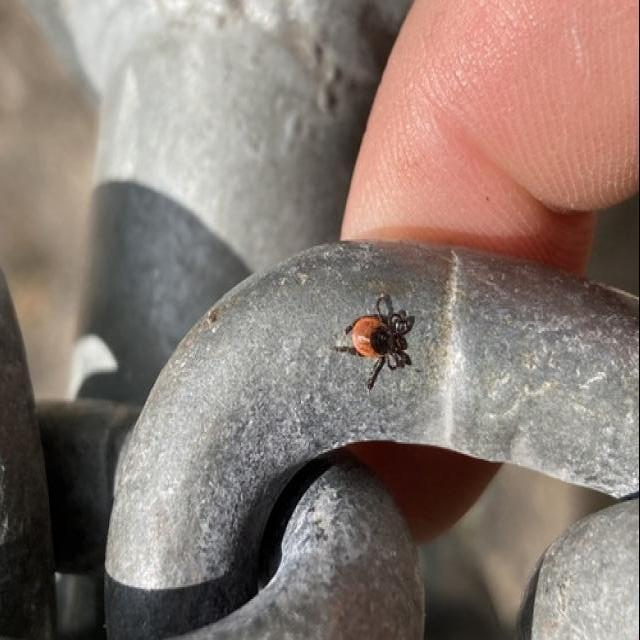Ixodes Ricinus-F: (335, 295, 420, 391)
